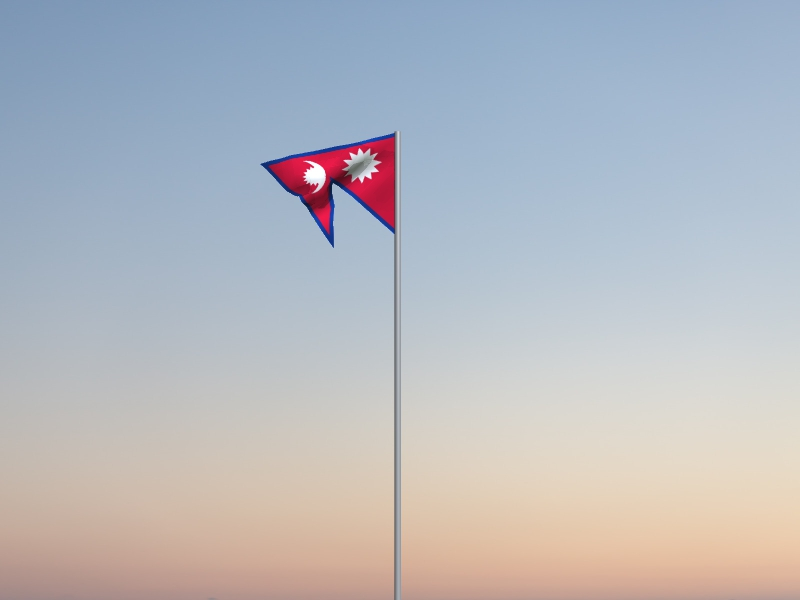np: (260, 132, 396, 249)
